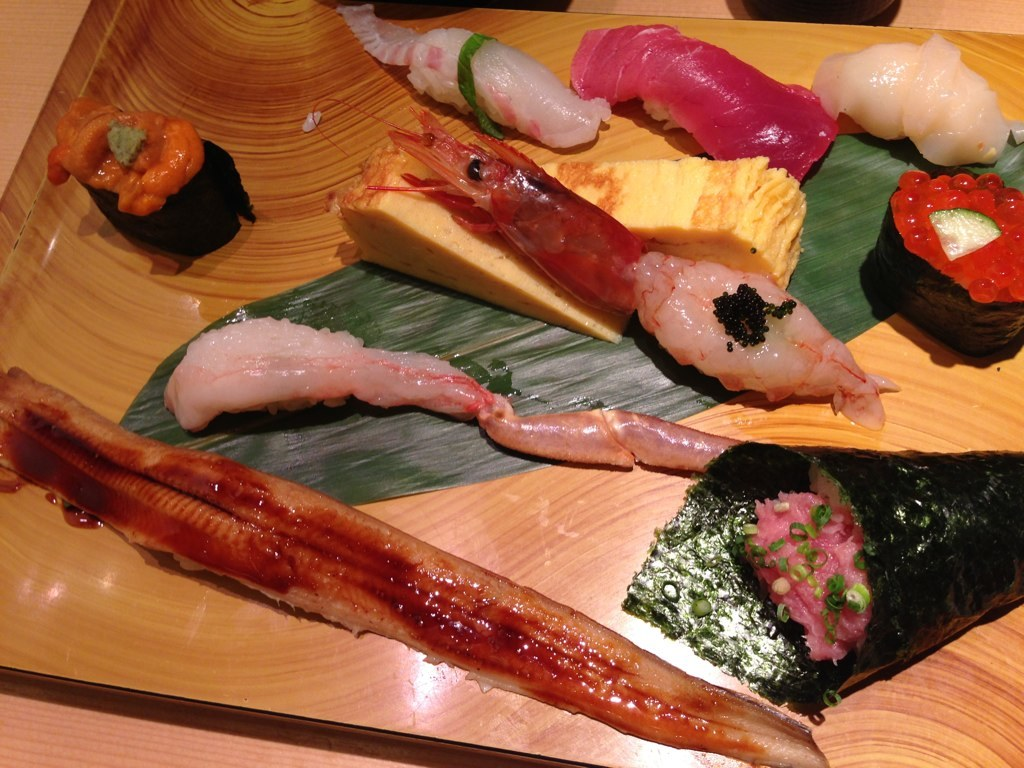sushi: (620, 438, 1014, 716), (580, 24, 830, 175), (352, 2, 603, 148), (857, 179, 1023, 357)
